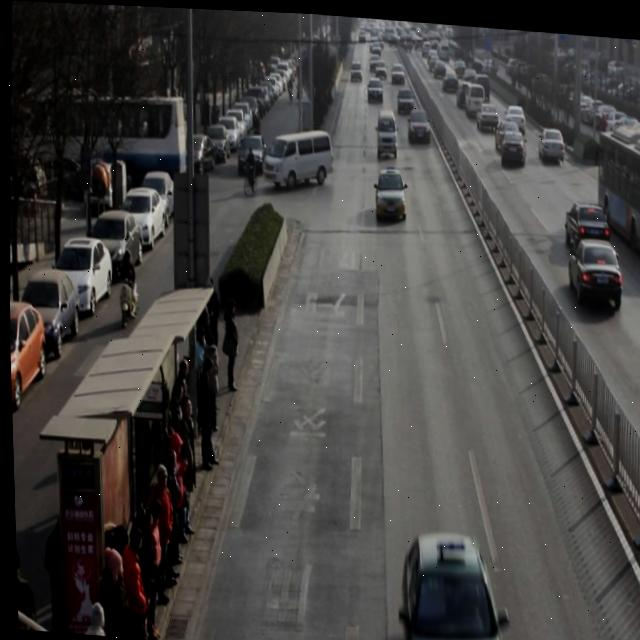car: (392, 527, 503, 640), (564, 230, 622, 303), (563, 193, 610, 254), (372, 163, 405, 218), (536, 120, 565, 159), (499, 124, 526, 162), (492, 114, 521, 148), (406, 103, 430, 140), (474, 96, 499, 128), (503, 98, 526, 132), (454, 74, 474, 104), (471, 67, 490, 97), (395, 81, 414, 111), (364, 70, 383, 100)
truck: (260, 122, 334, 188), (374, 103, 398, 155), (463, 76, 485, 113)
van: (591, 115, 640, 254)
